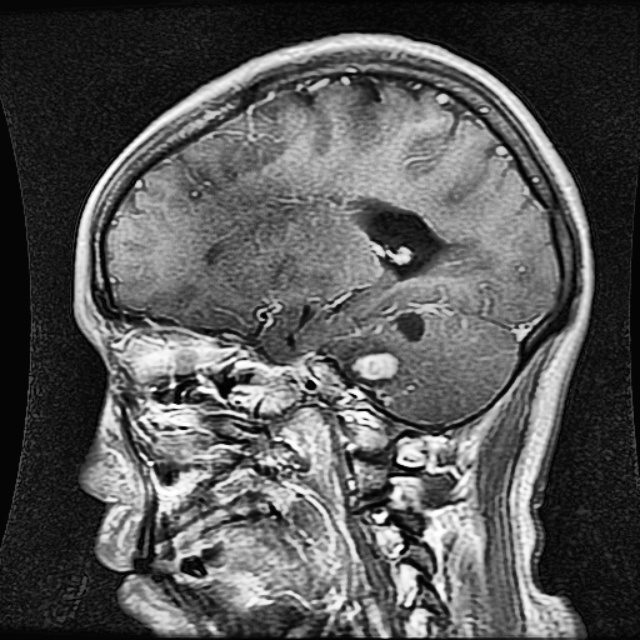Meningioma: (358, 352, 394, 377)
